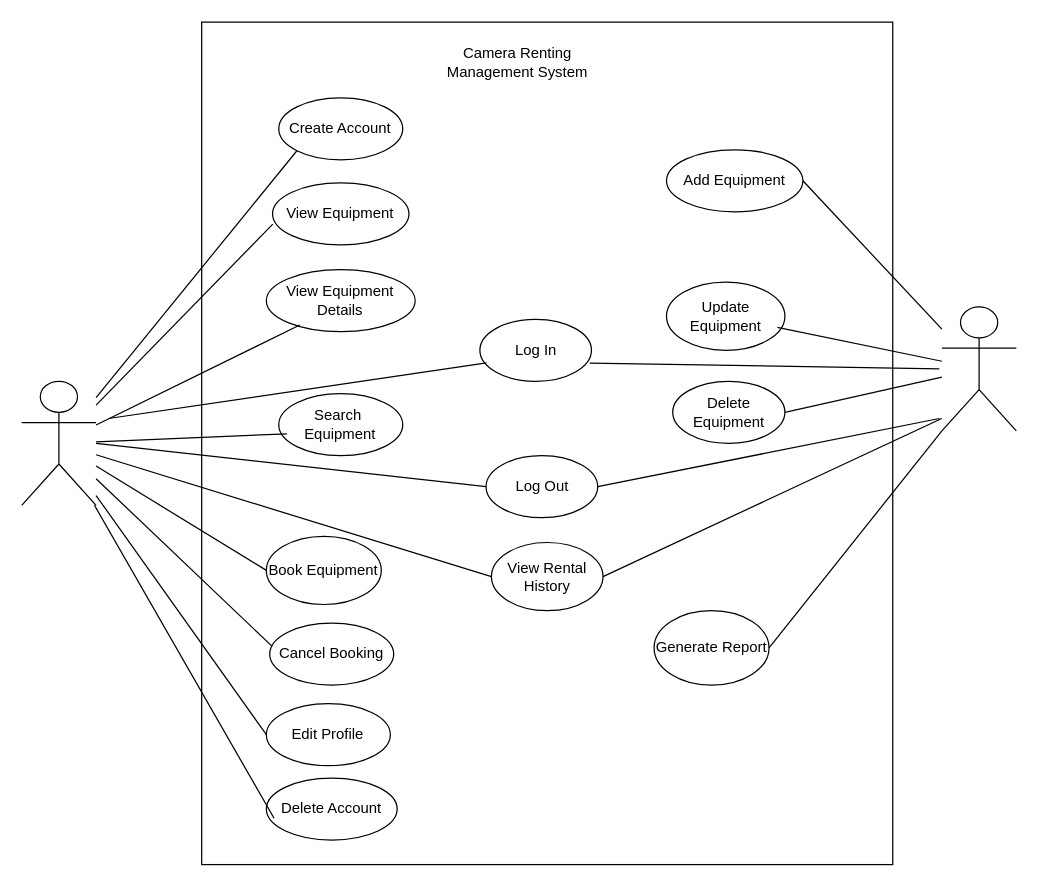
Some shapes in this 1045 by 887 pixel diagram are drawn without their labels. The shapes that lost their labels are listed below. From the top down, each one's centre as x and y in pixels, then its label:
(x=978, y=368): Administrator
(x=58, y=442): Customer
